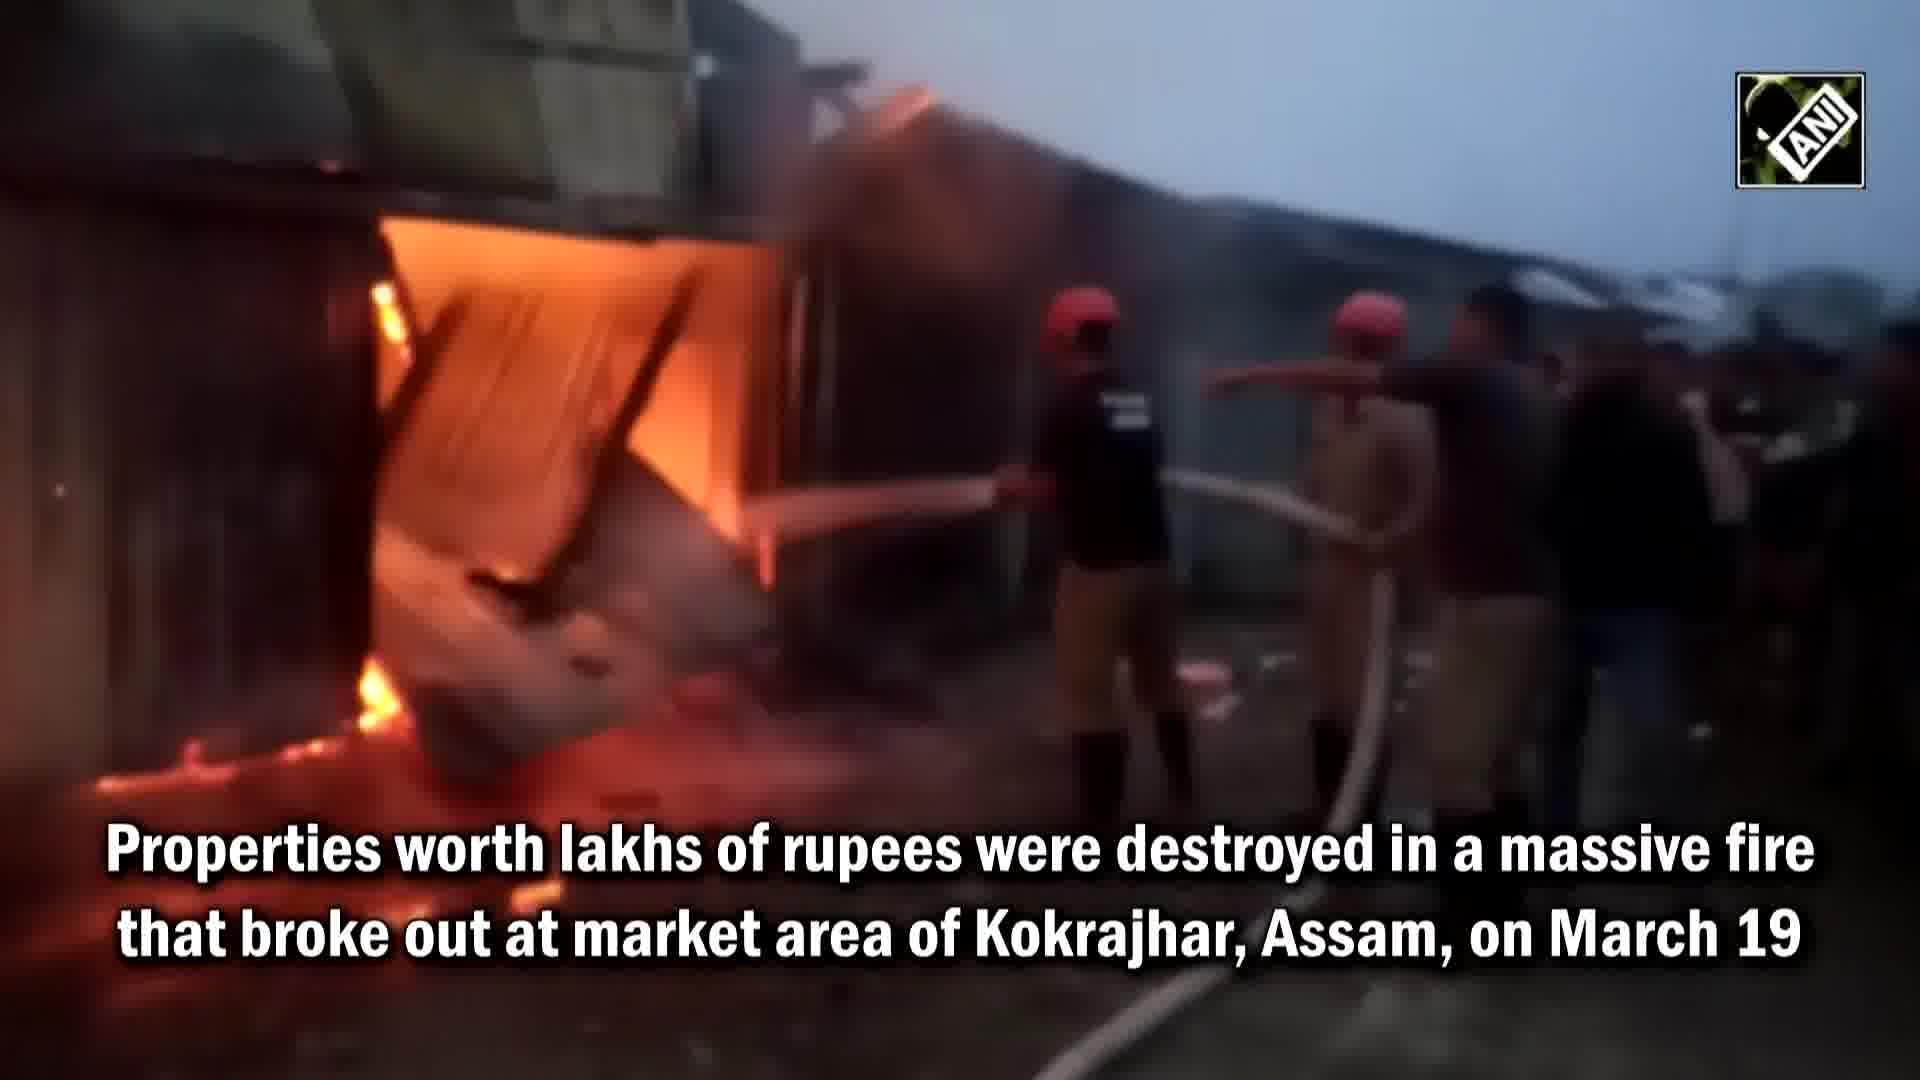fire: (406, 227, 752, 533)
